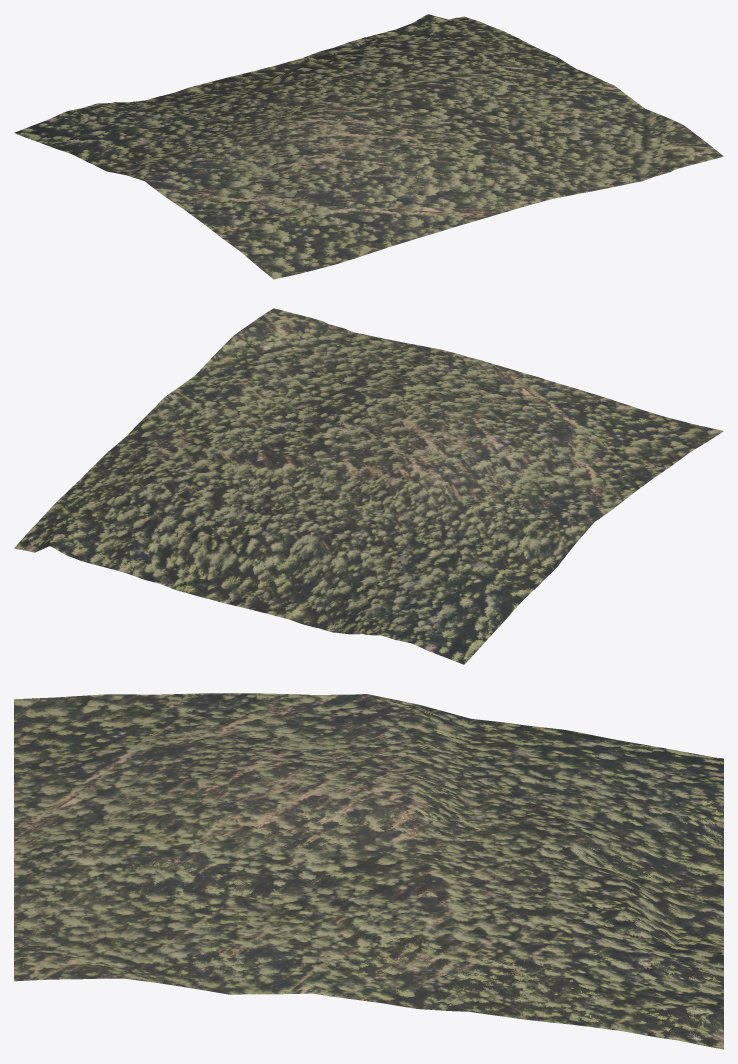
File: CM_Terrain_24490049_6822865.fbx
3 views of the same model, one above another, from view 1: azimuth 30°, elevation 25°; view 2: azimuth 150°, elevation 25°; view 3: azimuth 270°, elevation 25° (orthographic). The views are drawn at different scales.
Parts seen in each view (by area): view 1: CM_Terrain_24490049_6822865_LOD0; view 2: CM_Terrain_24490049_6822865_LOD0; view 3: CM_Terrain_24490049_6822865_LOD0.
Part boxes in pixels (<box>): CM_Terrain_24490049_6822865_LOD0: <box>14,14,723,279</box>; CM_Terrain_24490049_6822865_LOD0: <box>14,308,723,664</box>; CM_Terrain_24490049_6822865_LOD0: <box>14,693,723,1049</box>.
Size of what is drawn, in the model's own units: 205 by 28.53 by 205.
